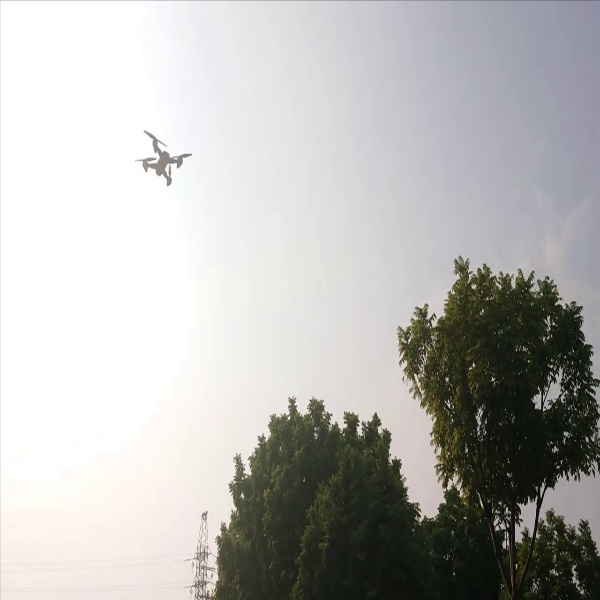drone: (129, 123, 195, 192)
